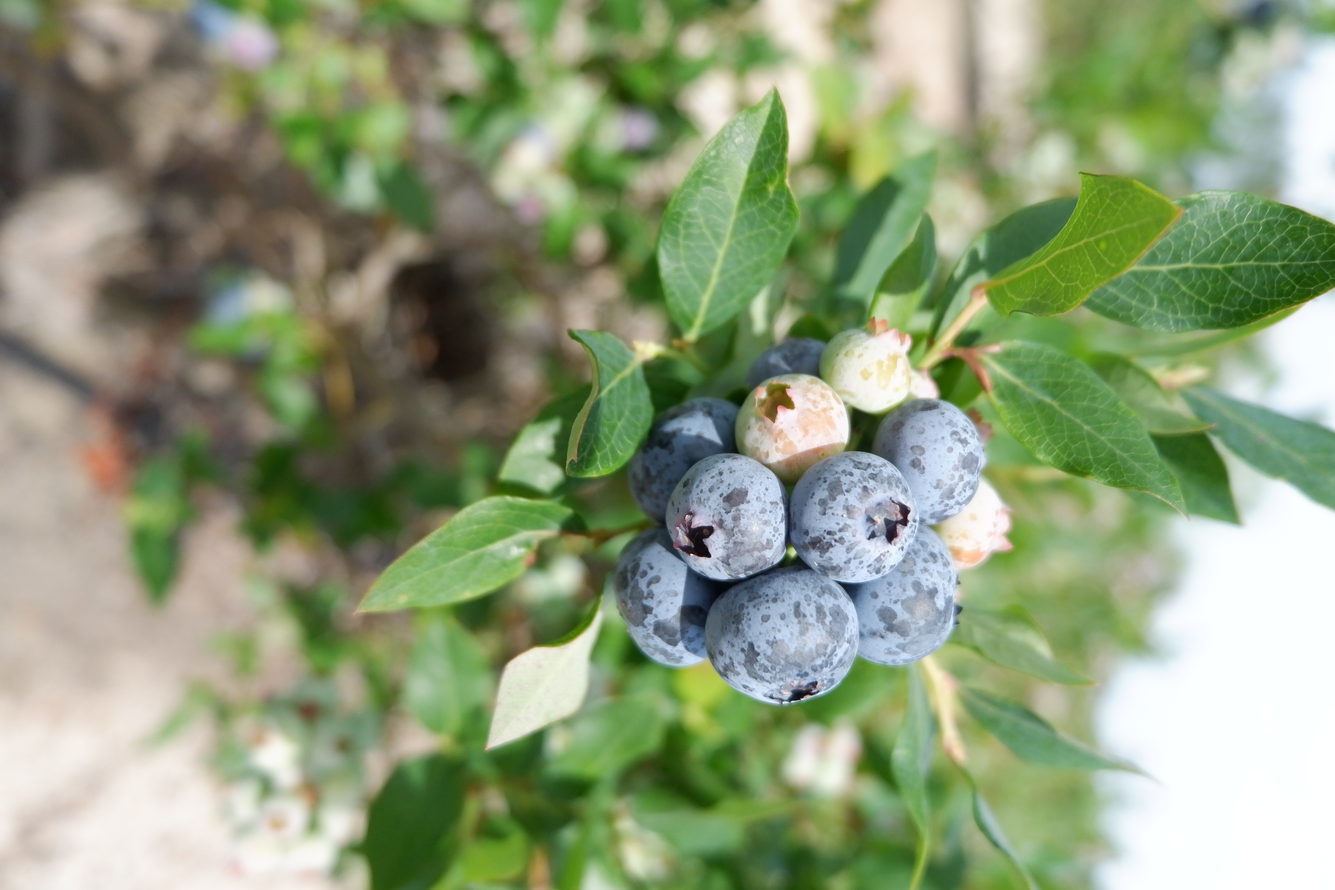Immature: (740, 376, 849, 483), (822, 324, 910, 410), (940, 481, 1010, 567), (895, 368, 938, 411)
Mature: (709, 568, 857, 700), (793, 455, 917, 581), (615, 527, 721, 662), (669, 457, 785, 579), (853, 527, 957, 662), (874, 401, 982, 521), (630, 400, 737, 520), (748, 339, 823, 390)
